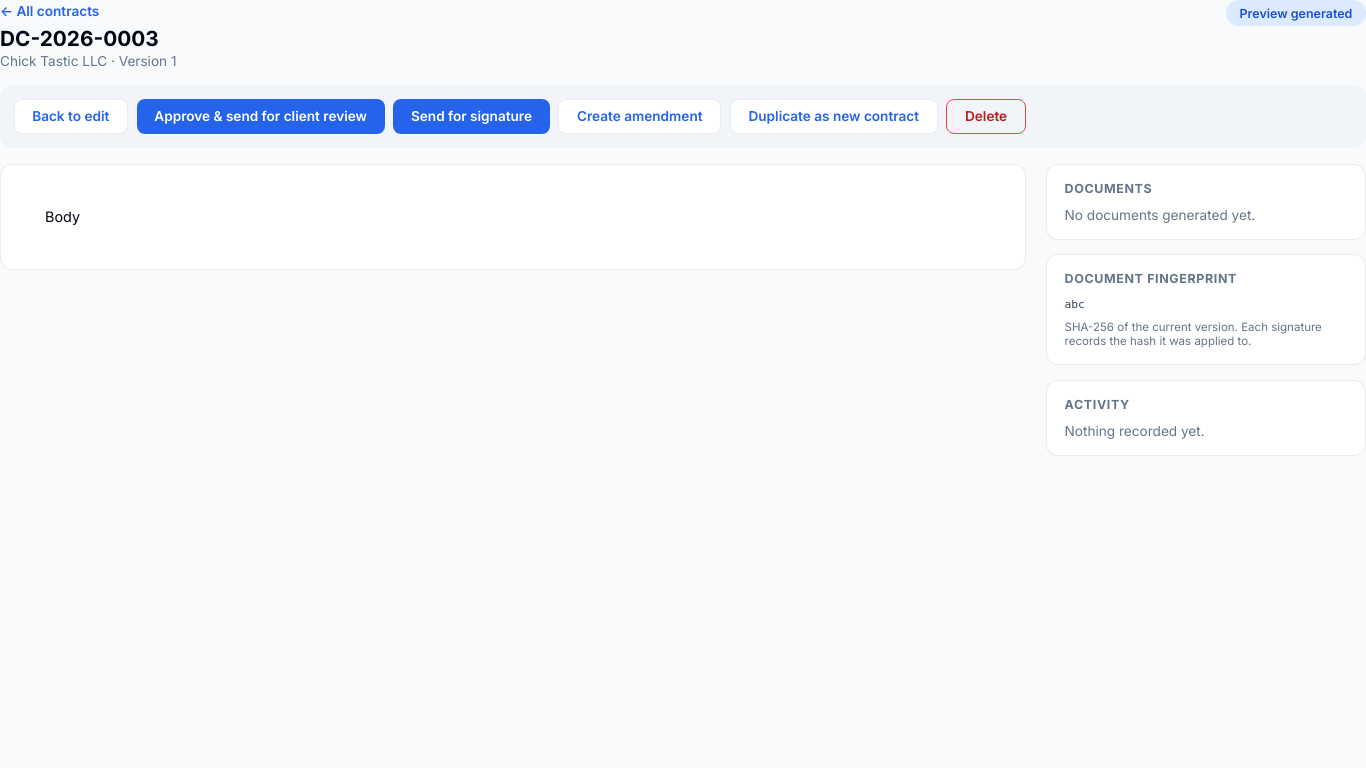
Scenario: ContractDetailComponent › opens the delete-or-archive dialog rather than acting immediately
Click the button with class "btn-danger": click(986, 116) [946,99,1026,134]
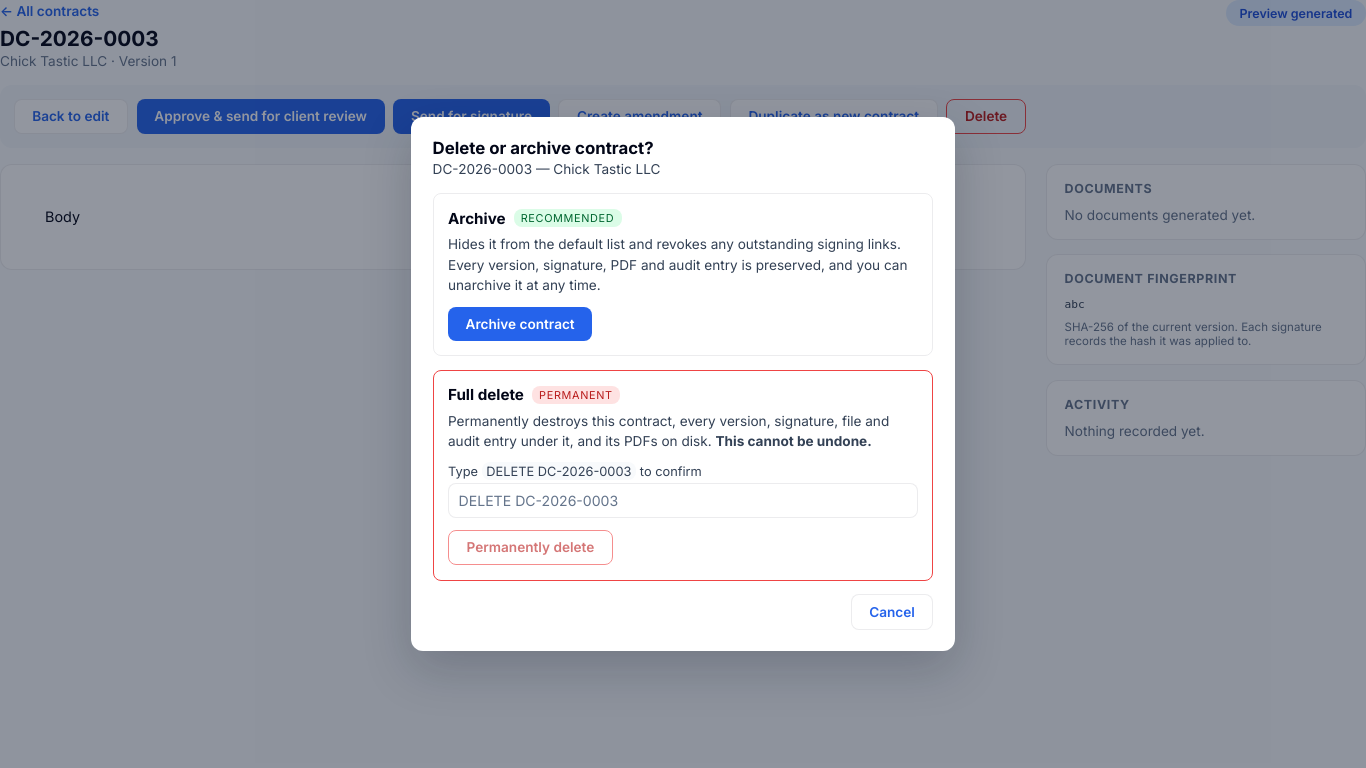
Now the text "Delete or archive contract?" is shown, box [433,138,654,158]
